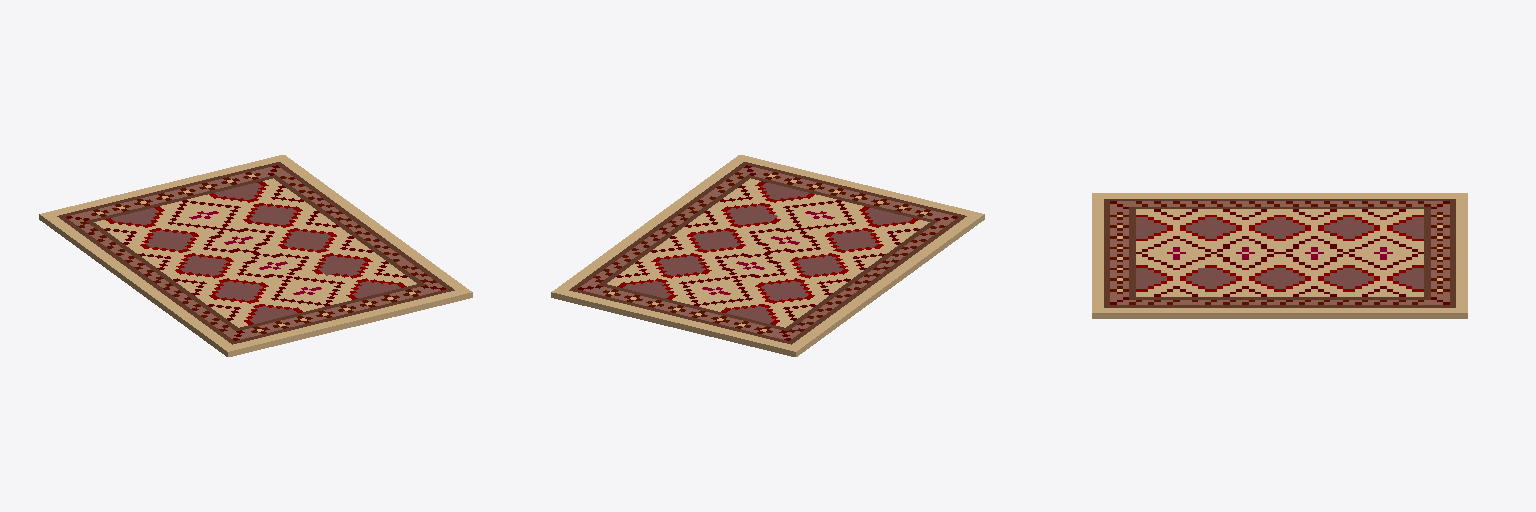
3 views of the same model, side by side, from view 1: azimuth 30°, elevation 25°; view 2: azimuth 150°, elevation 25°; view 3: azimuth 270°, elevation 25° (orthographic).
Visible parts, largest first — view 1: object 1; view 2: object 1; view 3: object 1.
Part boxes in pixels (bbox=[...]): object 1: bbox=[39, 155, 472, 356]; object 1: bbox=[551, 155, 984, 356]; object 1: bbox=[1092, 193, 1467, 318].
Bounding box in the file's own units: 4.5 × 0.1 × 6.
1 materials, 1 textured.